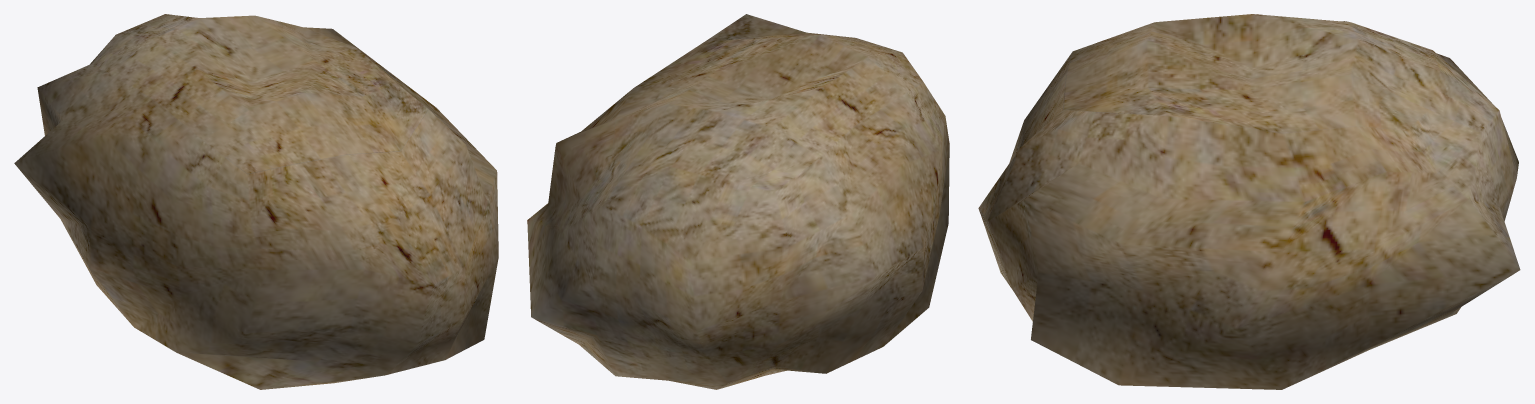
The model's file is de_rock.fbx.
3 renders of one model, left to right at view 1: azimuth 30°, elevation 25°; view 2: azimuth 150°, elevation 25°; view 3: azimuth 270°, elevation 25°, orthographic.
Parts seen in each view (by area): view 1: rock2; view 2: rock2; view 3: rock2.
Part boxes in pixels (x1,y1,x2,y2): rock2: [14, 14, 498, 389]; rock2: [527, 14, 949, 389]; rock2: [978, 14, 1520, 389].
Size of the model in its own units: 2.31 by 1.69 by 2.75.
